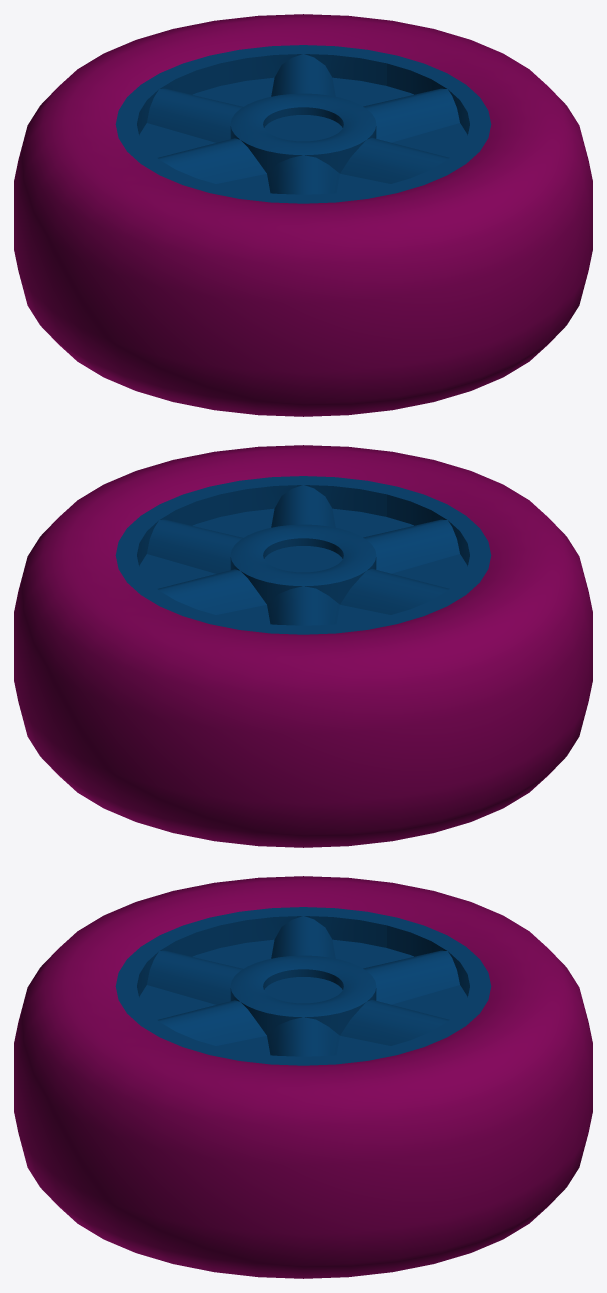
File: OBJ_Wheel.fbx
3 views of the same model, one above another, from view 1: azimuth 30°, elevation 25°; view 2: azimuth 150°, elevation 25°; view 3: azimuth 270°, elevation 25° (orthographic).
Parts seen in each view (by area): view 1: Cylinder014; view 2: Cylinder014; view 3: Cylinder014.
Part boxes in pixels (x1,y1,x2,y2): Cylinder014: [14, 14, 592, 416]; Cylinder014: [14, 445, 592, 847]; Cylinder014: [14, 876, 592, 1278].
Bounding box in the file's own units: 74.86 × 27.74 × 74.86.
